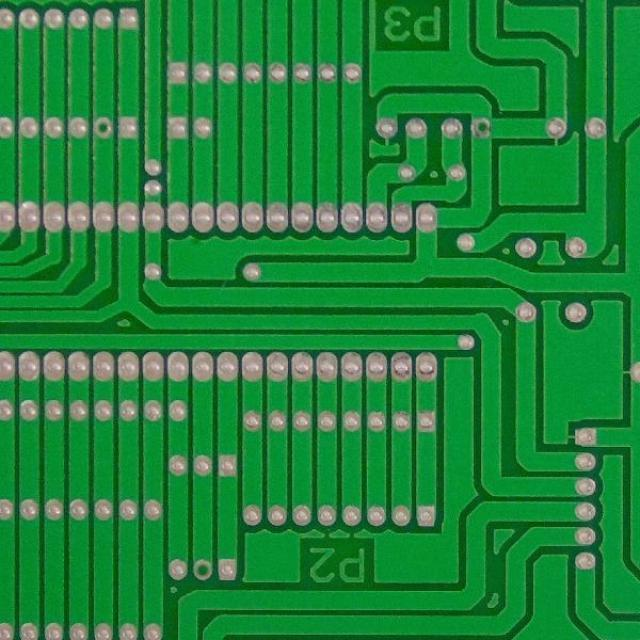Missing_Hole: (90, 116, 114, 142), (471, 116, 493, 139), (192, 560, 214, 580)
